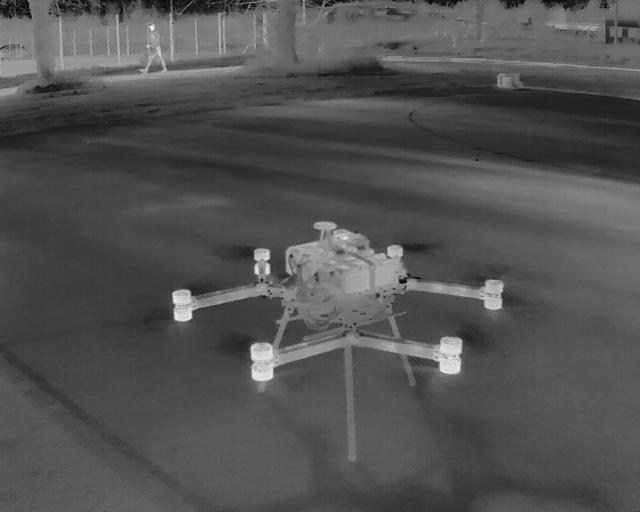drone: (104, 193, 564, 474)
